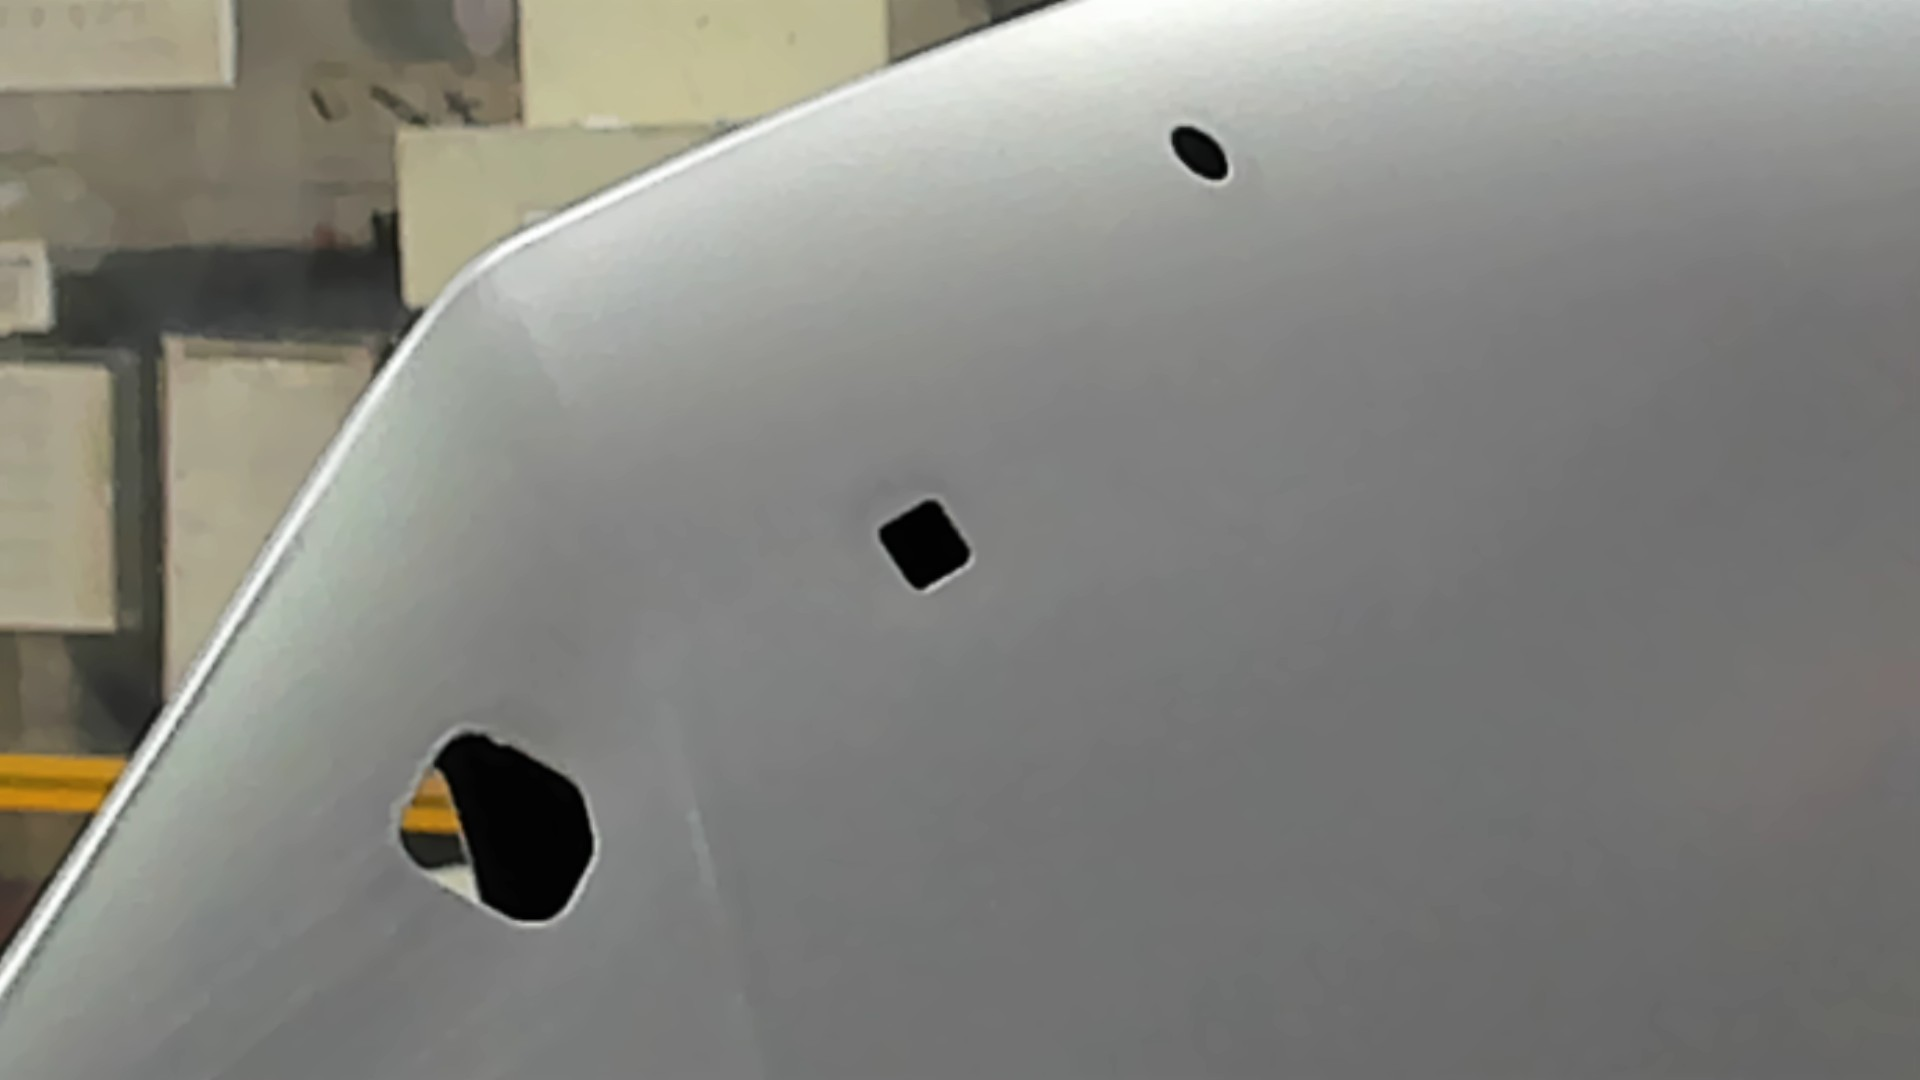chico: (1168, 121, 1236, 185)
grande: (390, 723, 603, 932)
mediano: (876, 493, 976, 597)
